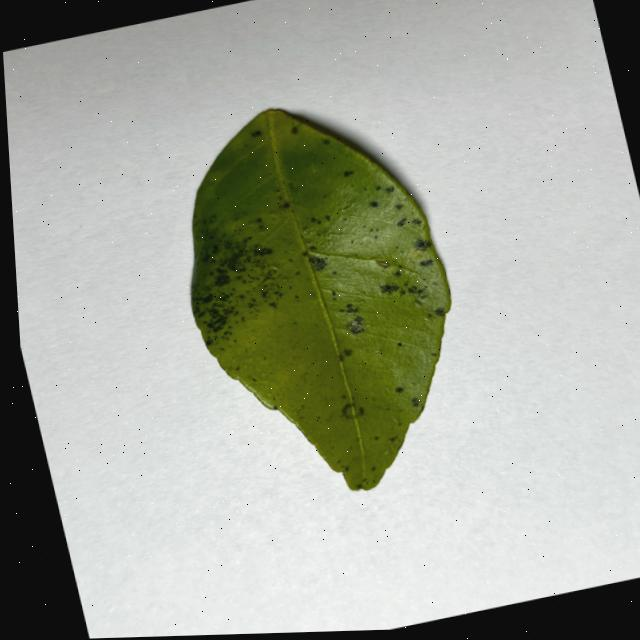sooty_mold: (191, 134, 450, 490)
